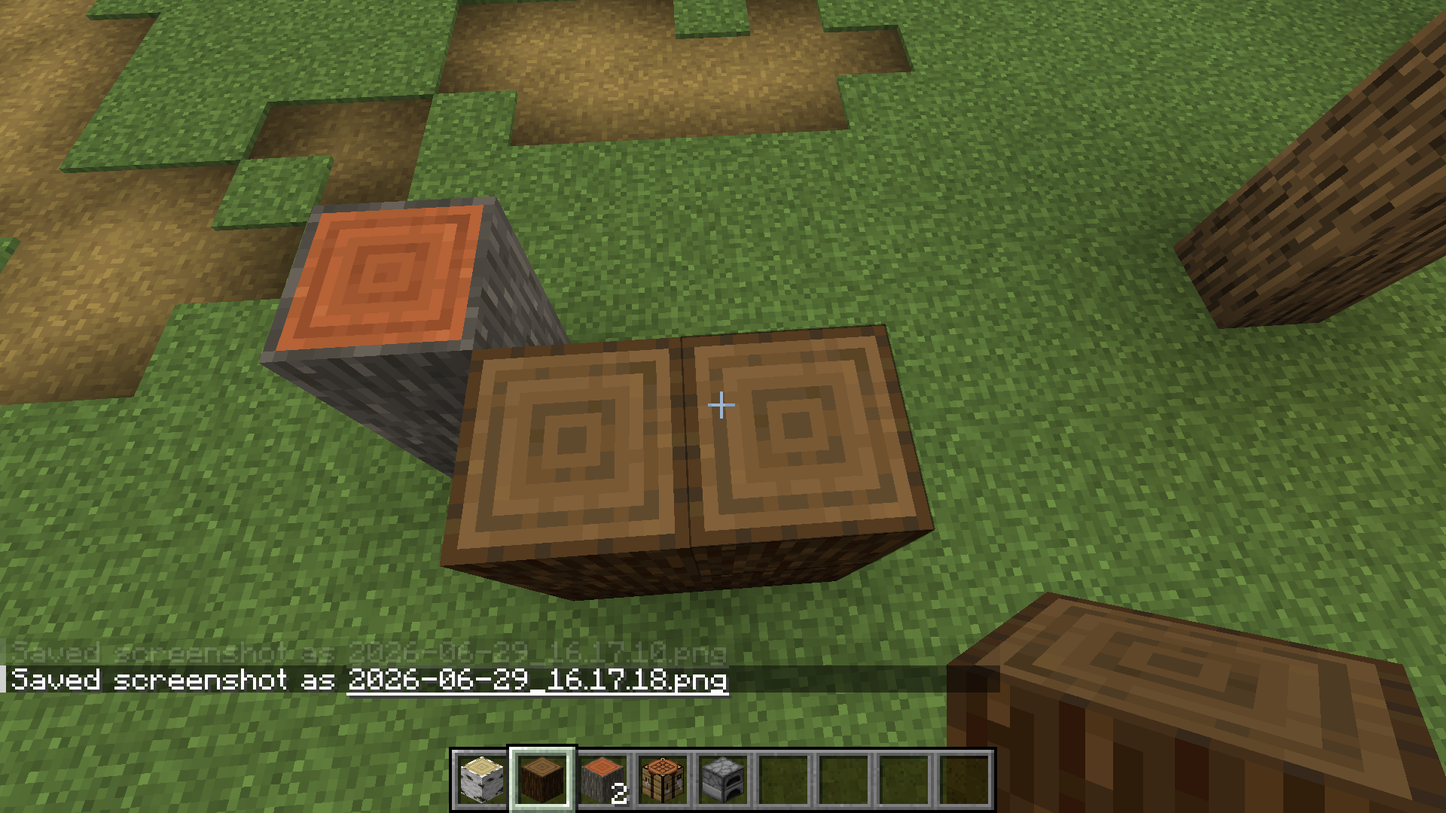wood 2: (309, 208, 505, 345)
wood 3: (474, 345, 700, 548), (687, 345, 900, 536)
